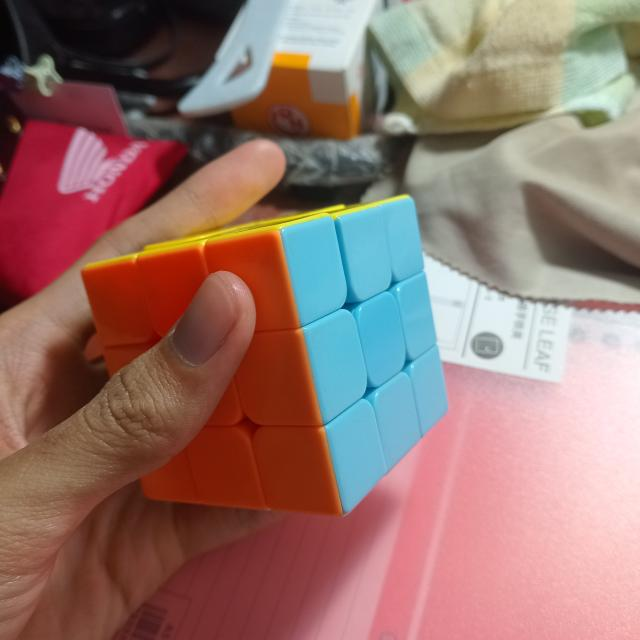back: (280, 197, 449, 513)
rubik: (75, 186, 451, 520)
